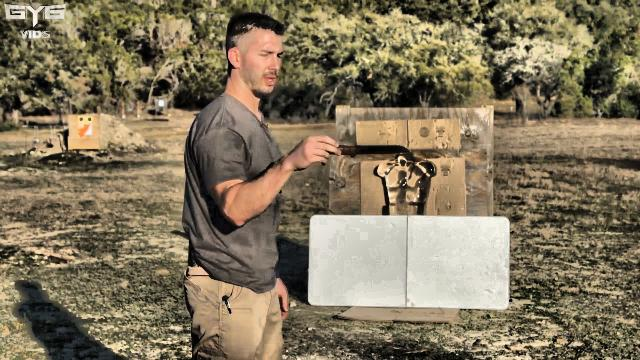knife: (302, 134, 414, 166)
